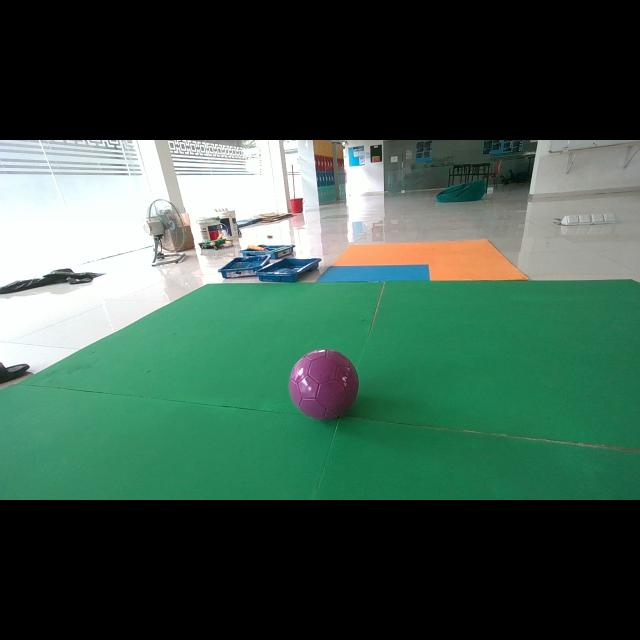P: (289, 349, 359, 419)
